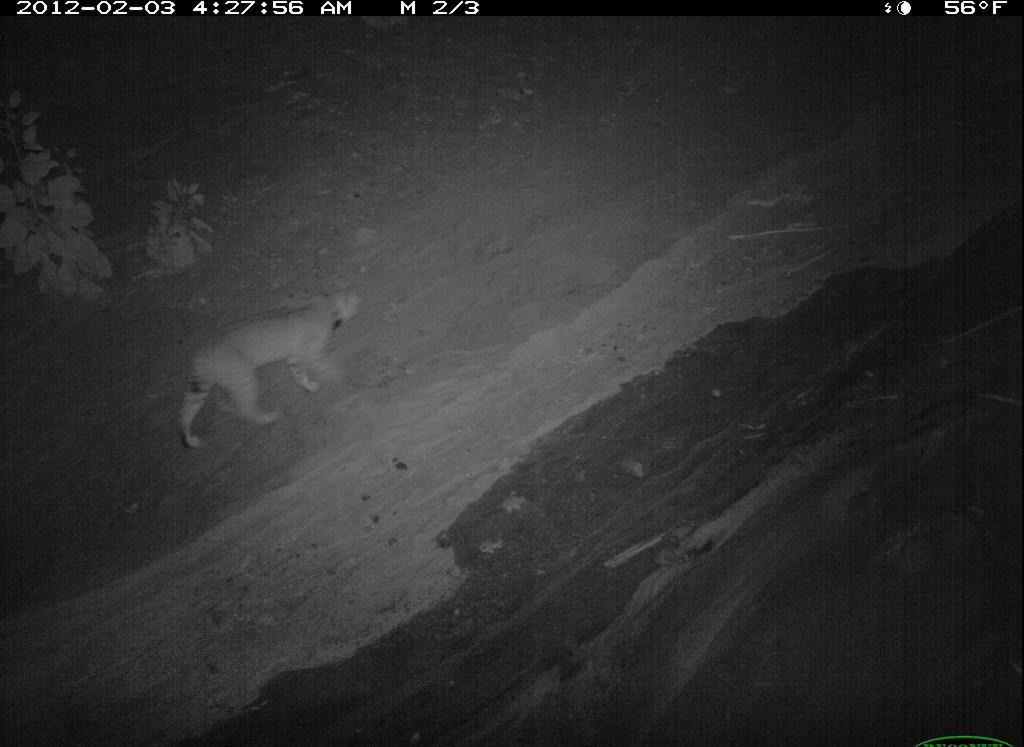bobcat: (344, 552, 741, 747)
